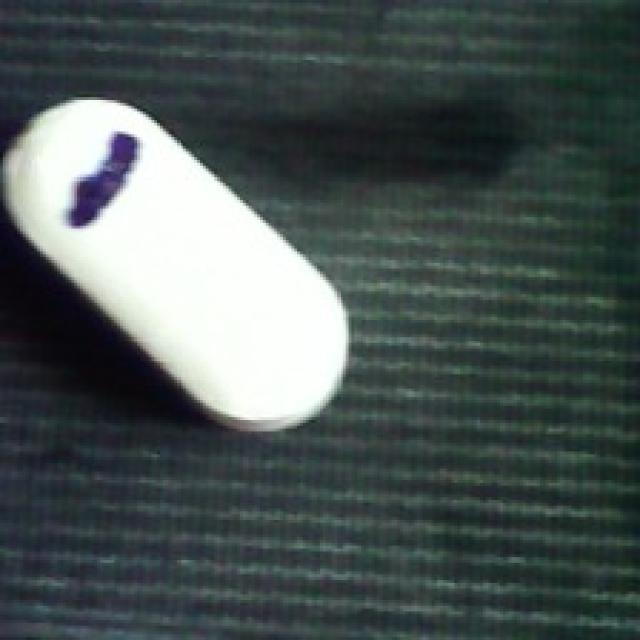defected: (0, 93, 351, 439)
